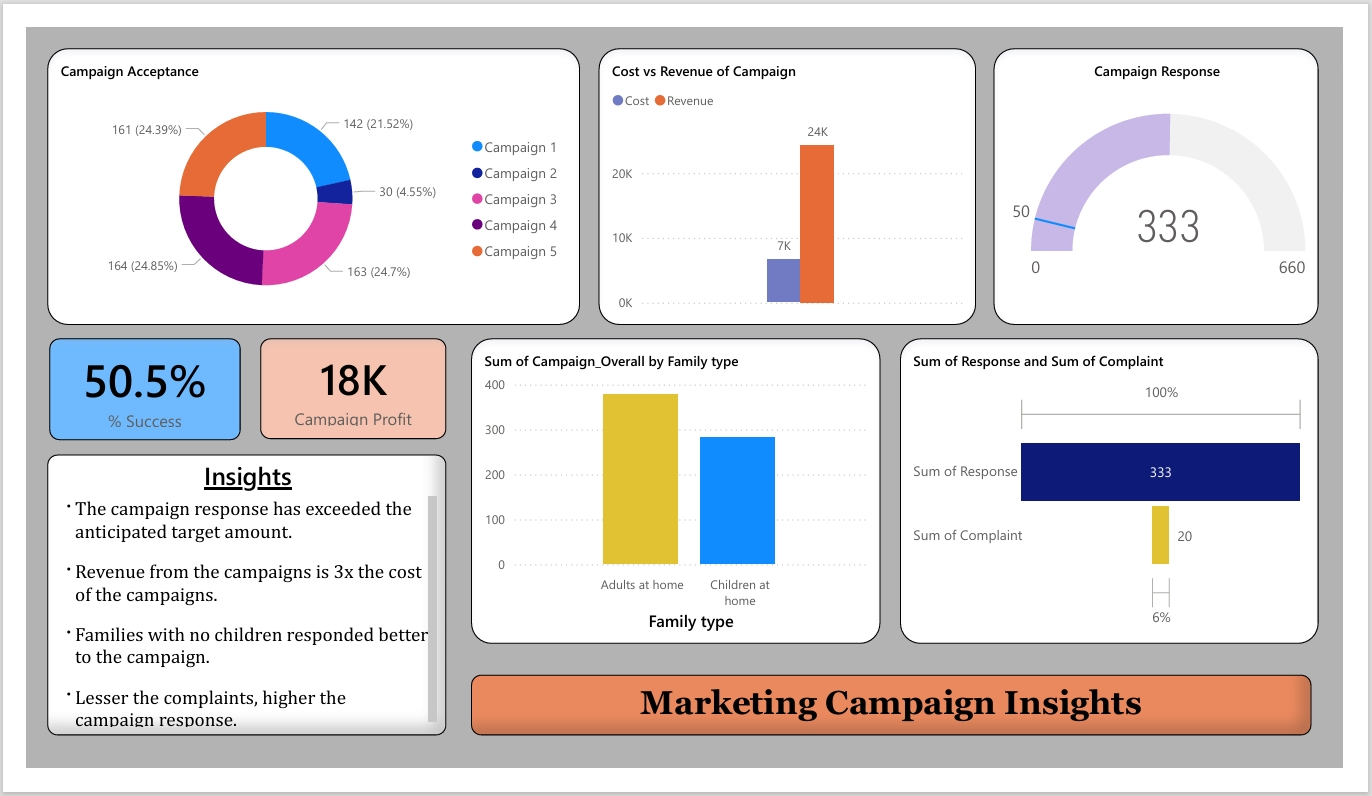

The page's visual inventory and layout, read from the dashboard file:
{"tool":"powerbi","page":{"name":"Marketing Campaign Insights","canvas":[1280,720],"ordinal":1},"visuals":[{"type":"clusteredColumnChart","title":"Cost vs Revenue of Campaign","fields":{"Y":["Sum(ifood_df.Z_CostContact)","Sum(ifood_df.Z_Revenue)"]},"box":[556.4,19.6,366.8,269],"z":0},{"type":"donutChart","title":"Campaign Acceptance","fields":{"Y":["Sum(ifood_df.Campaign_1)","Sum(ifood_df.Campaign_2)","Sum(ifood_df.Campaign_3)","Sum(ifood_df.Campaign_4)","Sum(ifood_df.Campaign_5)"]},"box":[19.6,19.6,518.5,269],"z":1000},{"type":"gauge","title":"Campaign Response","fields":{"Y":["Sum(ifood_df.Response)"],"MaxValue":["Sum(ifood_df.Campaign_Overall)"],"TargetValue":["ifood_df.Target Response"]},"box":[940.4,19.6,315.5,269],"z":2000},{"type":"funnel","fields":{"Y":["Sum(ifood_df.Response)","Sum(ifood_df.Complaint)"]},"box":[848.6,302,407.2,297.1],"z":3000},{"type":"clusteredColumnChart","fields":{"Y":["Sum(ifood_df.Campaign_Overall)"],"Category":["ifood_df.Family type"]},"box":[431.7,302,398.6,297.1],"z":4000},{"type":"textbox","box":[431.7,628.5,816.9,59.9],"z":5000},{"type":"textbox","title":"Insights","box":[19.6,414.5,388.9,273.9],"z":6000},{"type":"card","fields":{"Values":["ifood_df.% Success"]},"box":[22,302,185.9,99],"z":7000},{"type":"card","fields":{"Values":["ifood_df.Campaign Profit"]},"box":[227.4,302,181,97.8],"z":8000}]}

Visuals, with their boxes in screenshot pixels (x1, y1, x2, y2):
"Cost vs Revenue of Campaign" clusteredColumnChart: <bbox>596, 49, 970, 323</bbox>
"Campaign Acceptance" donutChart: <bbox>49, 49, 577, 323</bbox>
"Campaign Response" gauge: <bbox>987, 49, 1309, 323</bbox>
funnel - Sum(ifood_df.Response) x Sum(ifood_df.Complaint): <bbox>894, 336, 1309, 639</bbox>
clusteredColumnChart - Sum(ifood_df.Campaign_Overall) x ifood_df.Family type: <bbox>469, 336, 875, 639</bbox>
textbox: <bbox>469, 669, 1302, 730</bbox>
"Insights" textbox: <bbox>49, 451, 445, 730</bbox>
card - ifood_df.% Success: <bbox>51, 336, 241, 437</bbox>
card - ifood_df.Campaign Profit: <bbox>260, 336, 445, 436</bbox>
